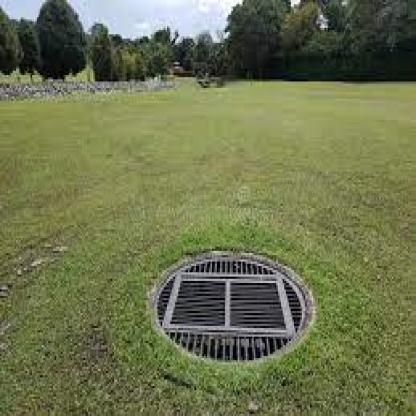open drainage-not overflowing-: (152, 247, 316, 368)
